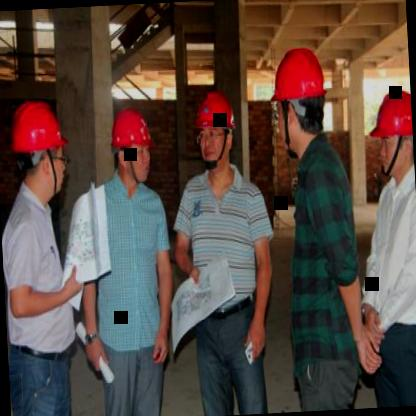helmet: (266, 41, 332, 156), (5, 96, 71, 198), (189, 86, 242, 172), (368, 86, 414, 180), (108, 107, 157, 184)
